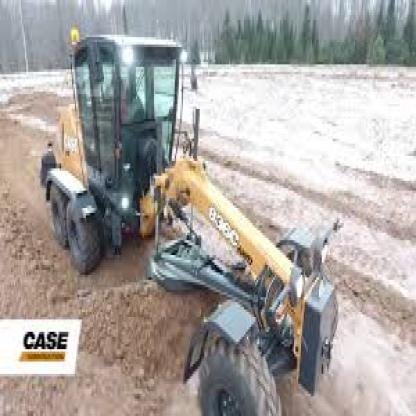bull_dozer/loader/grader: (32, 23, 345, 414)
